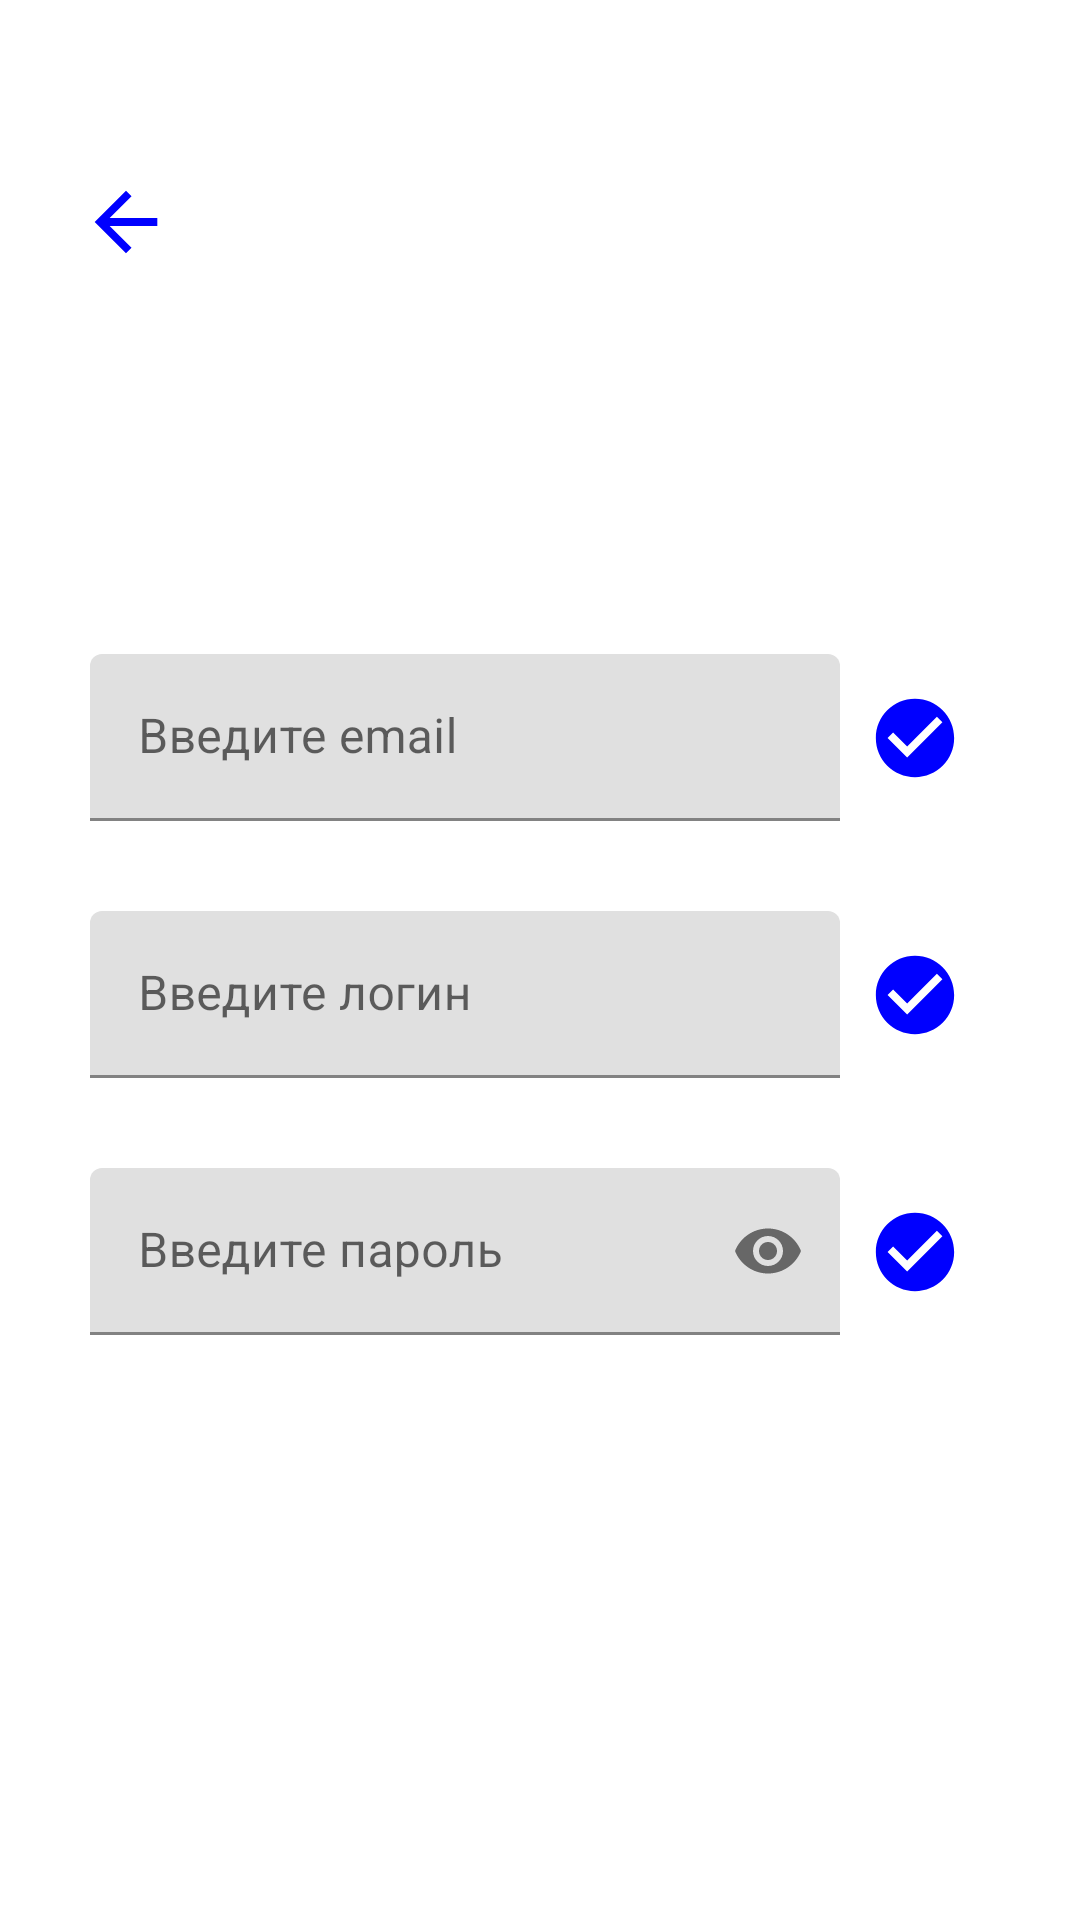

Icon bounding boxes for this 1080×1920 phone screenshot, format (x1, y1, x2, y2):
Назад: (95, 191, 158, 253)
